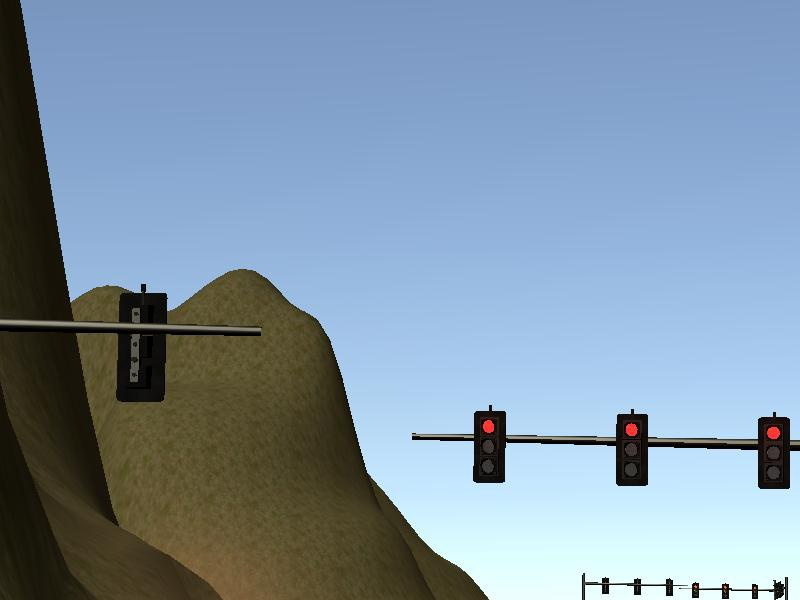red_light: (618, 416, 648, 484), (475, 412, 504, 482), (760, 417, 786, 487)
